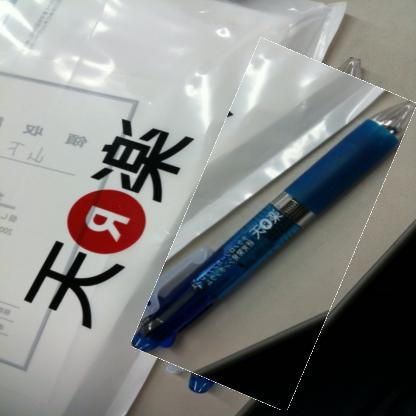Pen: (160, 47, 388, 402)
